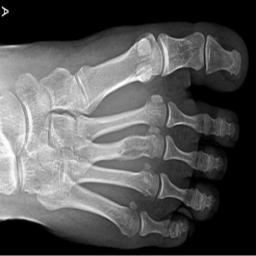cancer: (118, 136, 157, 159)
